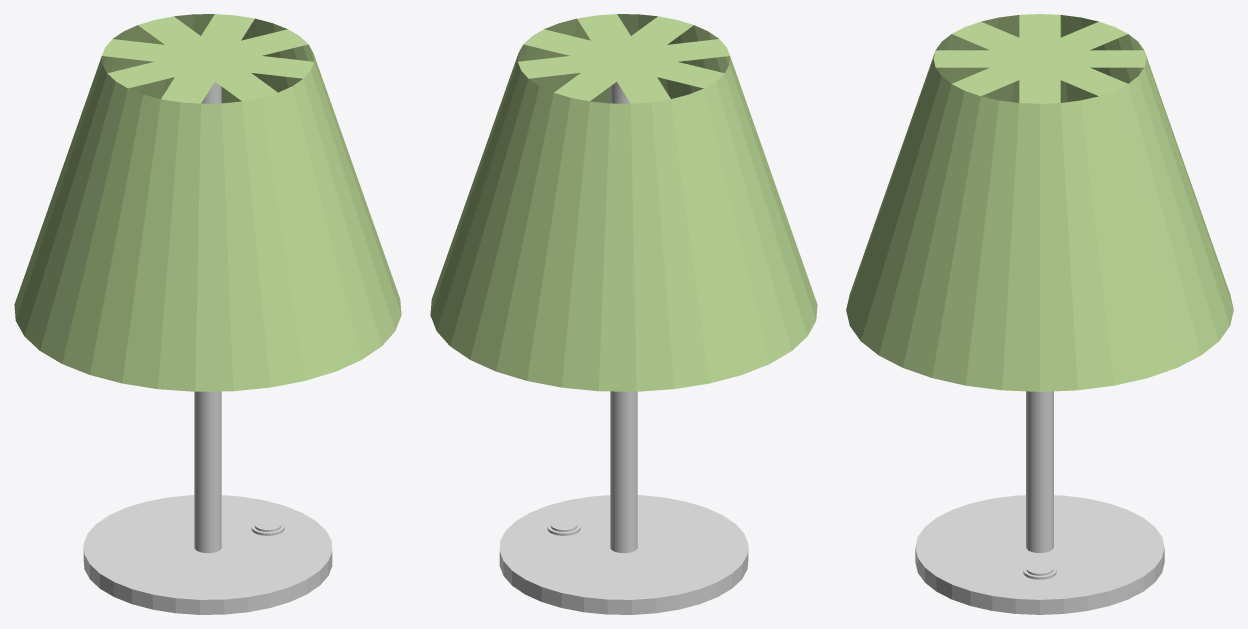
Rendered from linterna.glb.
3 renders of one model, left to right at view 1: azimuth 30°, elevation 25°; view 2: azimuth 150°, elevation 25°; view 3: azimuth 270°, elevation 25°, orthographic.
Parts seen in each view (by area): view 1: cortina-col, base-col, palo-col; view 2: cortina-col, base-col, palo-col; view 3: cortina-col, base-col, palo-col.
Boxes of the visible parts, x1,y1,x2,y2 form: cortina-col: (14,14,401,391); base-col: (83,495,332,614); palo-col: (194,82,221,553); cortina-col: (430,14,817,391); base-col: (499,495,748,614); palo-col: (610,82,637,553); cortina-col: (846,14,1233,391); base-col: (915,495,1164,614); palo-col: (1026,391,1053,552).
Bounding box in the file's own units: 1.4 × 2.01 × 1.4.
